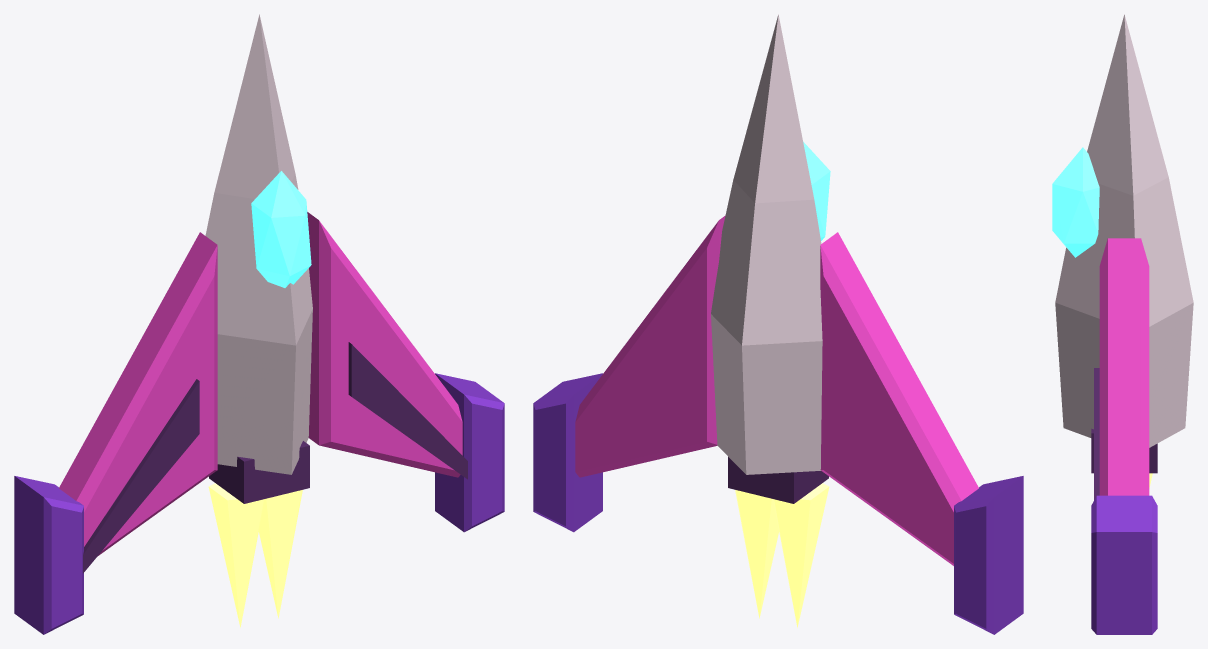
Rendered from interceptor.glb.
3 renders of one model, left to right at view 1: azimuth 30°, elevation 25°; view 2: azimuth 150°, elevation 25°; view 3: azimuth 270°, elevation 25°, orthographic. The views are drawn at different scales.
Parts seen in each view (by area): view 1: hull, wing_L, wing_R, tip_L, tip_R, cockpit, flame_L, flame_R; view 2: hull, wing_L, wing_R, tip_L, tip_R, flame_L, flame_R, cockpit; view 3: hull, wing_R, tip_R, cockpit.
Part boxes in pixels (x1=…): hull: x1=205, y1=14, x2=312, y2=503; wing_L: x1=59, y1=232, x2=217, y2=573; wing_R: x1=307, y1=212, x2=467, y2=479; tip_L: x1=14, y1=476, x2=83, y2=634; tip_R: x1=435, y1=373, x2=504, y2=532; cockpit: x1=251, y1=171, x2=311, y2=287; flame_L: x1=208, y1=483, x2=264, y2=627; flame_R: x1=258, y1=490, x2=302, y2=618; hull: x1=711, y1=14, x2=828, y2=503; wing_L: x1=820, y1=232, x2=978, y2=565; wing_R: x1=575, y1=215, x2=725, y2=477; tip_L: x1=954, y1=476, x2=1023, y2=634; tip_R: x1=533, y1=373, x2=602, y2=532; flame_L: x1=773, y1=483, x2=829, y2=627; flame_R: x1=735, y1=490, x2=779, y2=618; cockpit: x1=803, y1=141, x2=830, y2=240; hull: x1=1055, y1=14, x2=1193, y2=473; wing_R: x1=1094, y1=238, x2=1149, y2=500; tip_R: x1=1091, y1=495, x2=1157, y2=634; cockpit: x1=1052, y1=147, x2=1099, y2=257.
Size of the model in its own units: 18.2 by 23 by 5.11.
